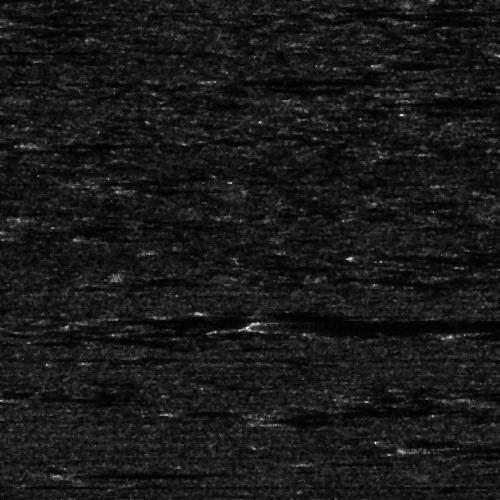object: (91, 179, 164, 200), (395, 443, 468, 452), (232, 321, 315, 328), (9, 139, 62, 146), (329, 254, 382, 259), (421, 179, 462, 184), (194, 309, 235, 314), (242, 413, 305, 416), (52, 471, 83, 476), (199, 78, 230, 81), (80, 317, 111, 320)
shadow: (274, 321, 500, 328), (95, 317, 500, 320), (36, 139, 206, 146), (128, 179, 171, 200), (68, 471, 234, 476), (432, 443, 500, 452), (356, 254, 450, 259), (215, 78, 352, 81), (274, 413, 410, 416), (0, 179, 31, 192), (441, 179, 500, 184), (215, 309, 259, 314), (0, 394, 69, 397)
